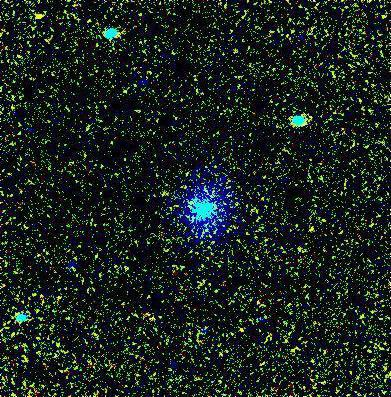star: (26, 2, 56, 32)
